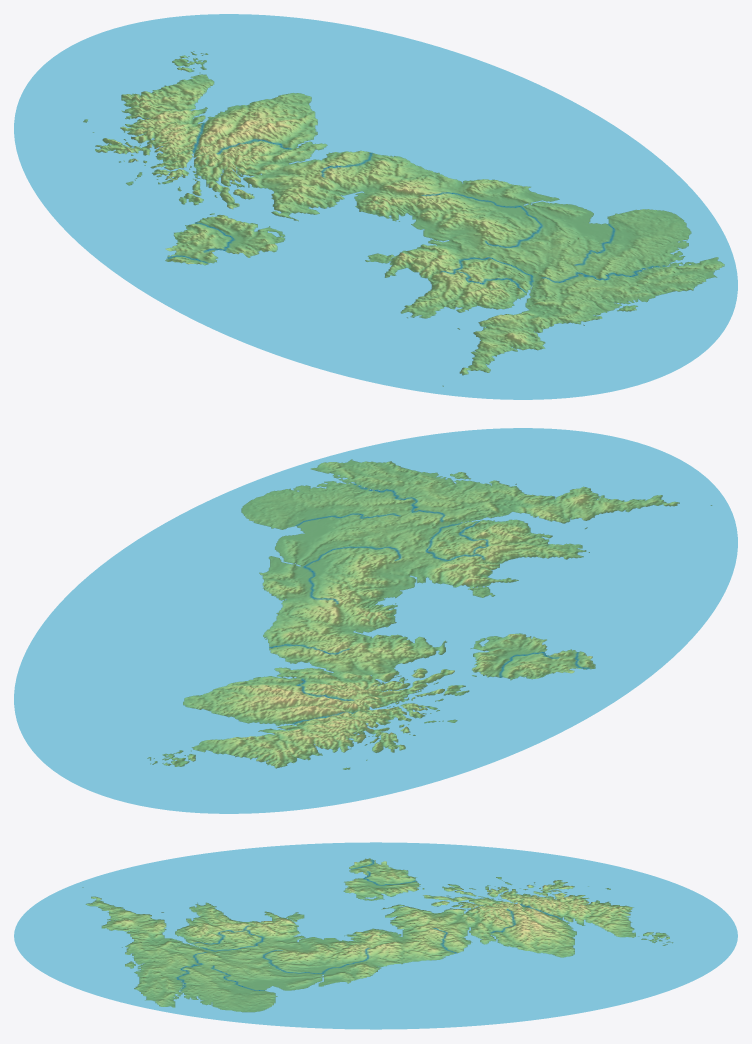
Rendered from GBR-terrain.glb.
3 views of the same model, one above another, from view 1: azimuth 30°, elevation 25°; view 2: azimuth 150°, elevation 25°; view 3: azimuth 270°, elevation 25° (orthographic). The views are drawn at different scales.
Visible parts, largest first — view 1: Relevo com hidrografia; view 2: Relevo com hidrografia; view 3: Relevo com hidrografia.
Part boxes in pixels (<box>): Relevo com hidrografia: <box>14,14,737,399</box>; Relevo com hidrografia: <box>14,428,737,813</box>; Relevo com hidrografia: <box>14,842,737,1029</box>.
Bounding box in the file's own units: 1.2 × 0.0184 × 1.97.
Materials: 2 (1 with a texture image).
